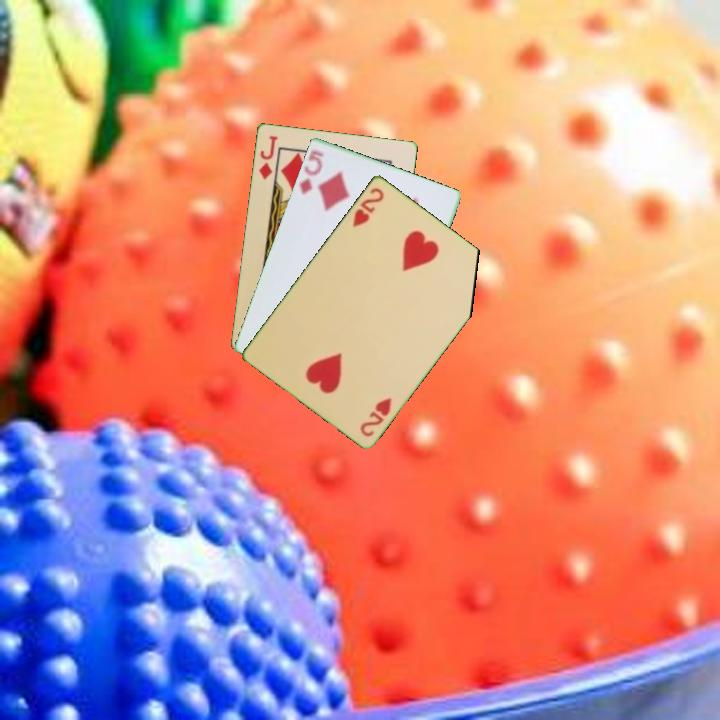2h: (349, 183, 387, 230), (356, 394, 395, 439)
5d: (296, 146, 326, 197)
Jd: (255, 132, 280, 182)
